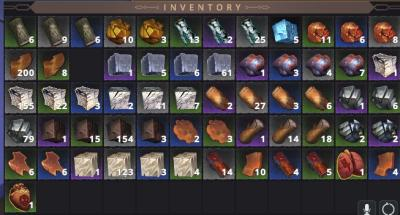ash log: (70, 16, 102, 47), (6, 16, 37, 47), (38, 16, 68, 47)
aurelium ore: (136, 16, 168, 46), (103, 16, 134, 46)
birch log: (170, 17, 202, 46), (237, 16, 266, 46), (204, 17, 233, 46)
copper ore: (335, 17, 366, 45), (369, 17, 400, 45), (303, 17, 332, 46)
durable hide: (5, 49, 36, 78), (37, 50, 68, 78)
granite stone: (204, 49, 234, 79), (105, 50, 135, 79), (171, 50, 201, 79), (138, 51, 167, 79)
iron ore: (302, 49, 333, 79), (335, 50, 366, 79), (237, 49, 267, 78), (270, 49, 300, 78)
limestone stone: (5, 82, 36, 112), (71, 83, 100, 112), (370, 51, 400, 79), (39, 84, 67, 111)
marble stone: (170, 83, 201, 112), (106, 84, 133, 112), (138, 84, 166, 111)
oak log: (269, 82, 300, 112), (204, 84, 234, 112), (238, 83, 267, 111), (304, 84, 333, 111)
silver ore: (335, 82, 365, 112), (5, 116, 36, 145), (370, 81, 399, 111)
slate stone: (105, 116, 134, 145), (38, 117, 68, 145), (138, 117, 168, 145), (72, 116, 101, 144)
soft hide: (170, 116, 201, 145), (203, 116, 234, 145)
spruce log: (269, 115, 300, 145), (238, 116, 268, 146), (303, 116, 334, 144)
strong hide: (369, 148, 400, 179), (237, 148, 267, 179)
tin ore: (368, 116, 400, 145), (336, 116, 366, 145)
tough hide: (5, 149, 36, 179), (37, 149, 68, 178)
travertine stone: (71, 149, 102, 180), (170, 149, 201, 178), (138, 149, 167, 179), (105, 149, 134, 178)
yew log: (203, 148, 235, 179), (302, 148, 333, 179), (269, 149, 299, 178)
